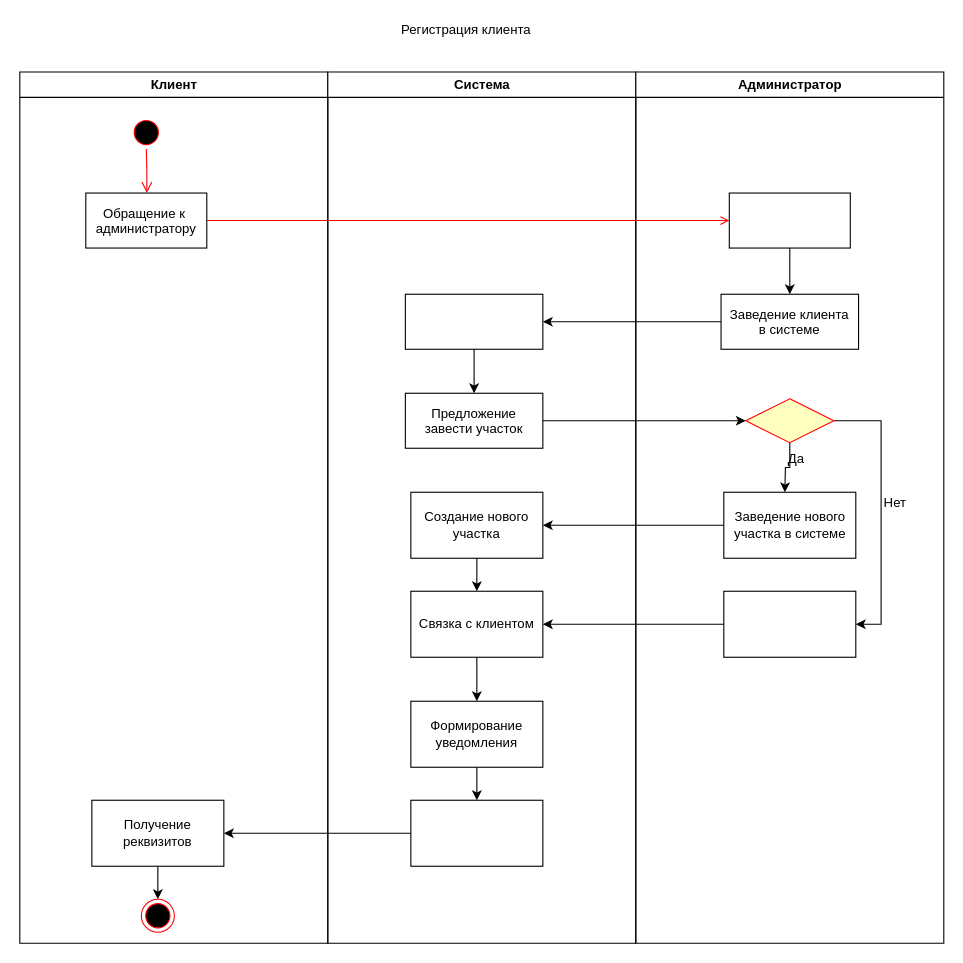
Image size: 963x963. Some labels were removed from this diagram. Each missing label, with the centre of its shape:
"Акцепт" belongs at [789,420].
"Выбор существующего участка" belongs at [789,623].
"Заключение договора" belongs at [789,220].
"Отправка уведомления" belongs at [476,832].
"Создание клиента" belongs at [473,321].
